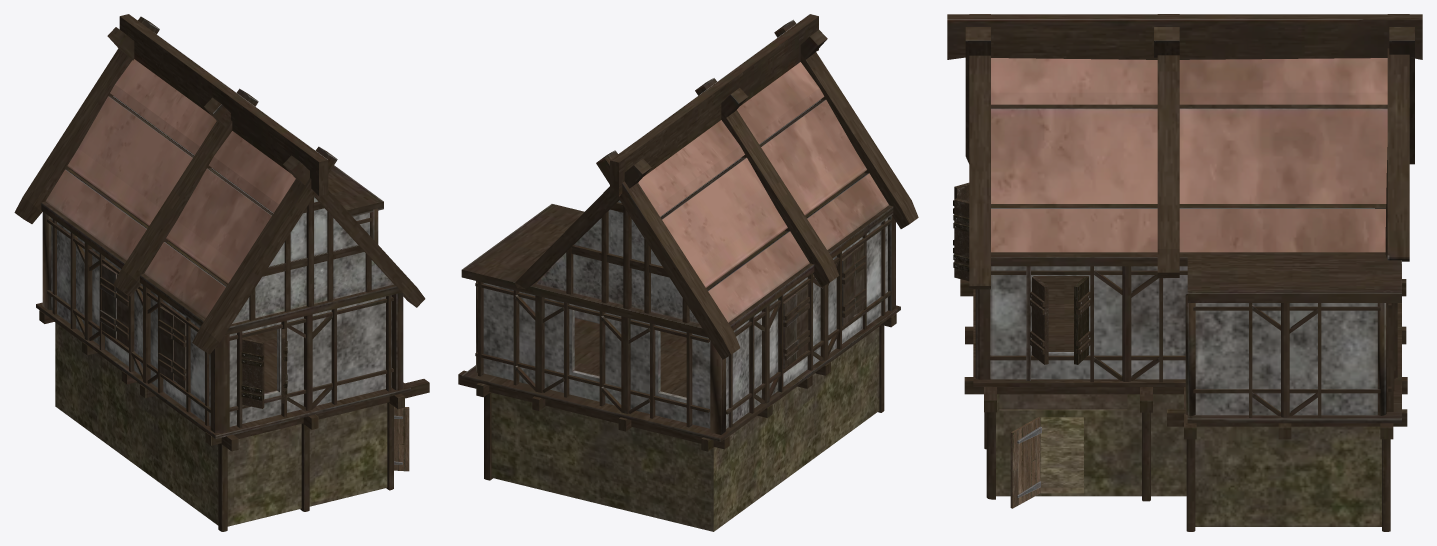
Rendered from tavern.glb.
The picture shows the model from 3 angles, left to right: view 1: azimuth 30°, elevation 25°; view 2: azimuth 150°, elevation 25°; view 3: azimuth 270°, elevation 25°; orthographic projection. The views are drawn at different scales.
Parts seen in each view (by area): view 1: Roof_Roof_0, Two_section_Two_section_0, One_section_One_Section_0, Cube055_stwor4_0, Door_Door_0; view 2: Roof_Roof_0, Two_section_Two_section_0, One_section_One_Section_0; view 3: Roof_Roof_0, Two_section_Two_section_0, One_section_One_Section_0, Door_Door_0, Cube059_stwor1_0, Cube057_stwor3_0, Cube053_stvor2_0.
Boxes of the visible parts, x1,y1,x2,y2 form: Roof_Roof_0: [14, 14, 425, 354]; Two_section_Two_section_0: [36, 165, 410, 438]; One_section_One_Section_0: [39, 310, 429, 531]; Cube055_stwor4_0: [241, 338, 264, 408]; Door_Door_0: [394, 406, 409, 471]; Roof_Roof_0: [515, 14, 918, 359]; Two_section_Two_section_0: [461, 204, 900, 441]; One_section_One_Section_0: [458, 313, 896, 531]; Roof_Roof_0: [947, 14, 1422, 289]; Two_section_Two_section_0: [973, 252, 1401, 423]; One_section_One_Section_0: [960, 279, 1407, 531]; Door_Door_0: [1010, 417, 1041, 508]; Cube059_stwor1_0: [1030, 276, 1048, 364]; Cube057_stwor3_0: [953, 198, 969, 281]; Cube053_stvor2_0: [1074, 276, 1090, 364].
Bounding box in the file's own units: 10.68 × 13.12 × 13.12.
8 materials, 8 textured.
